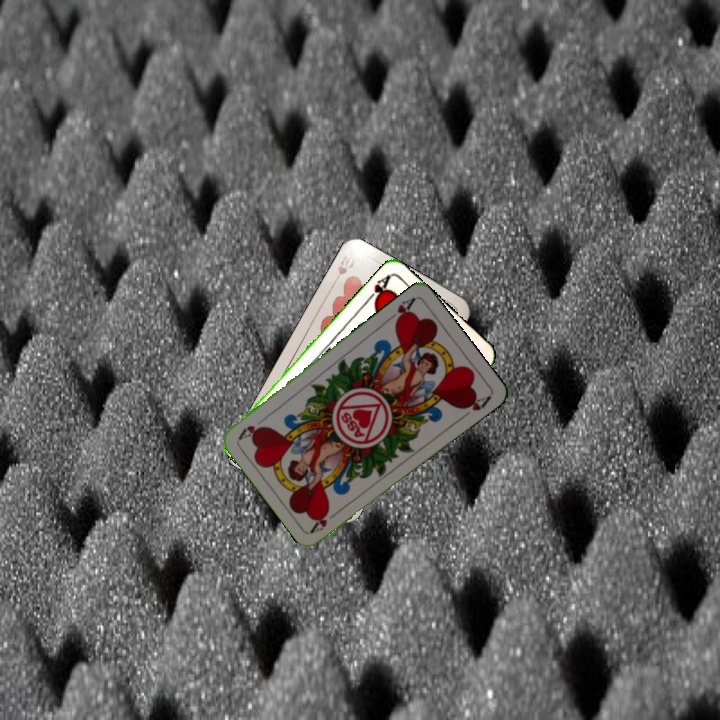H10: (329, 248, 358, 287)
HA: (383, 293, 418, 327), (362, 270, 393, 307), (307, 506, 343, 535)
